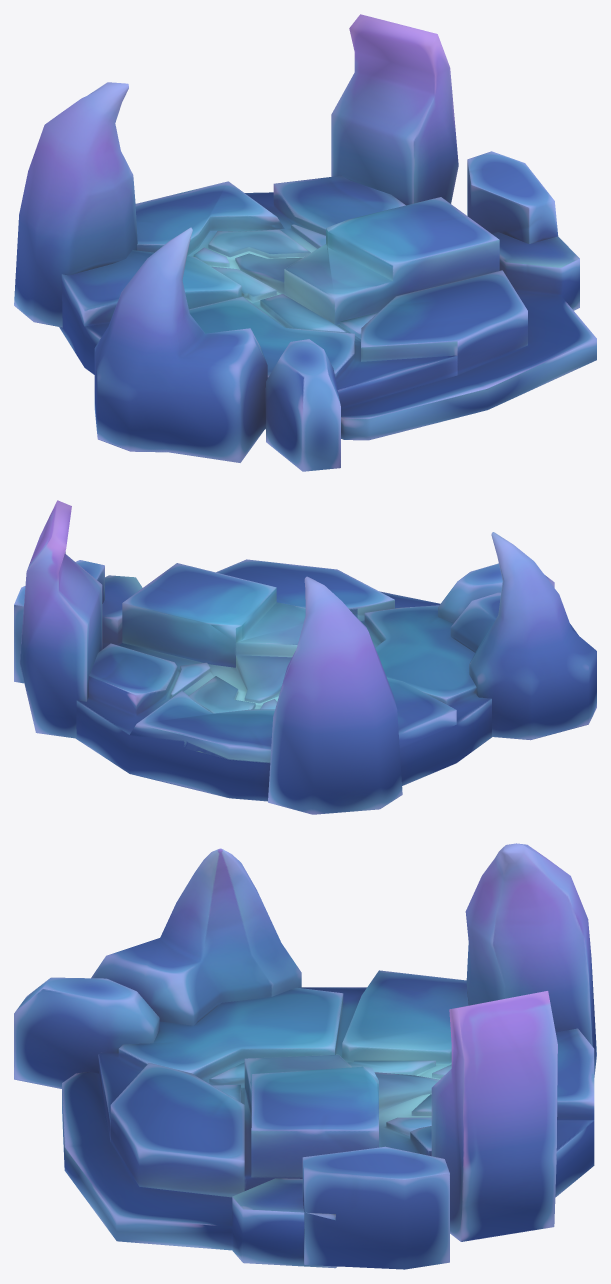
File: TerrenoTexture.glb
The picture shows the model from 3 angles, top to bottom: view 1: azimuth 30°, elevation 25°; view 2: azimuth 150°, elevation 25°; view 3: azimuth 270°, elevation 25°; orthographic projection. The views are drawn at different scales.
Visible parts, largest first — view 1: Terreno_Low; view 2: Terreno_Low; view 3: Terreno_Low.
Part boxes in pixels (bbox=[...]): Terreno_Low: bbox=[14, 14, 596, 471]; Terreno_Low: bbox=[14, 500, 596, 814]; Terreno_Low: bbox=[14, 843, 596, 1269].
Bounding box in the file's own units: 11.64 × 4.69 × 10.43.
Materials: 1 (1 with a texture image).
